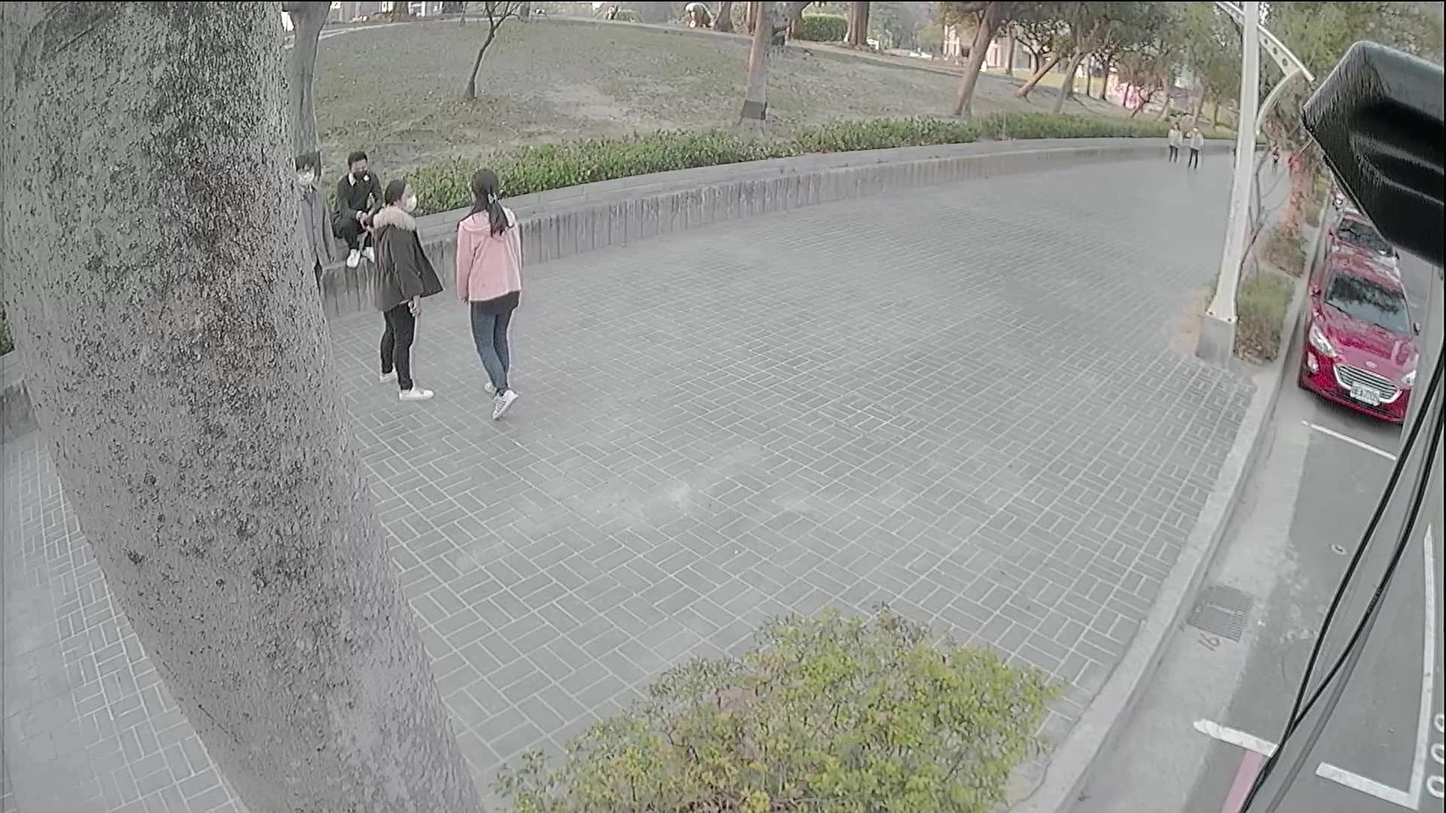person: (457, 170, 523, 418), (365, 178, 432, 401), (290, 157, 328, 303), (332, 151, 378, 266), (1185, 121, 1200, 166), (1166, 118, 1179, 165)
